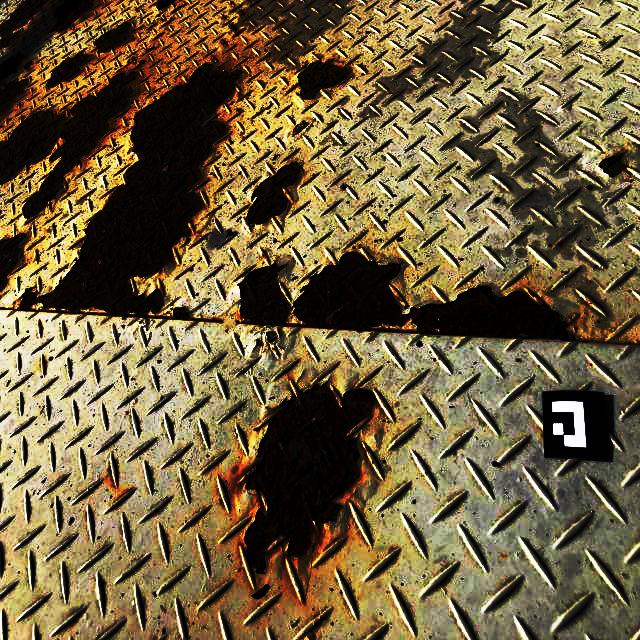Corrosion: (19, 64, 242, 318), (293, 252, 586, 342), (240, 383, 376, 574), (0, 70, 144, 221), (237, 263, 306, 327), (245, 161, 304, 228), (0, 0, 50, 52), (298, 59, 350, 100), (46, 52, 94, 90), (48, 0, 96, 34), (0, 233, 26, 293), (94, 21, 136, 54), (0, 78, 28, 122), (154, 306, 223, 322), (597, 150, 628, 179), (0, 51, 26, 85), (156, 0, 177, 12), (291, 122, 304, 136), (160, 18, 176, 27), (142, 45, 156, 55), (134, 59, 145, 71), (22, 60, 34, 70), (171, 5, 183, 13), (250, 0, 263, 7), (153, 33, 164, 41), (234, 30, 244, 37), (220, 39, 229, 46), (229, 24, 237, 31), (131, 57, 138, 64), (238, 9, 245, 16), (212, 56, 218, 61), (230, 1, 235, 5), (221, 16, 226, 19)
